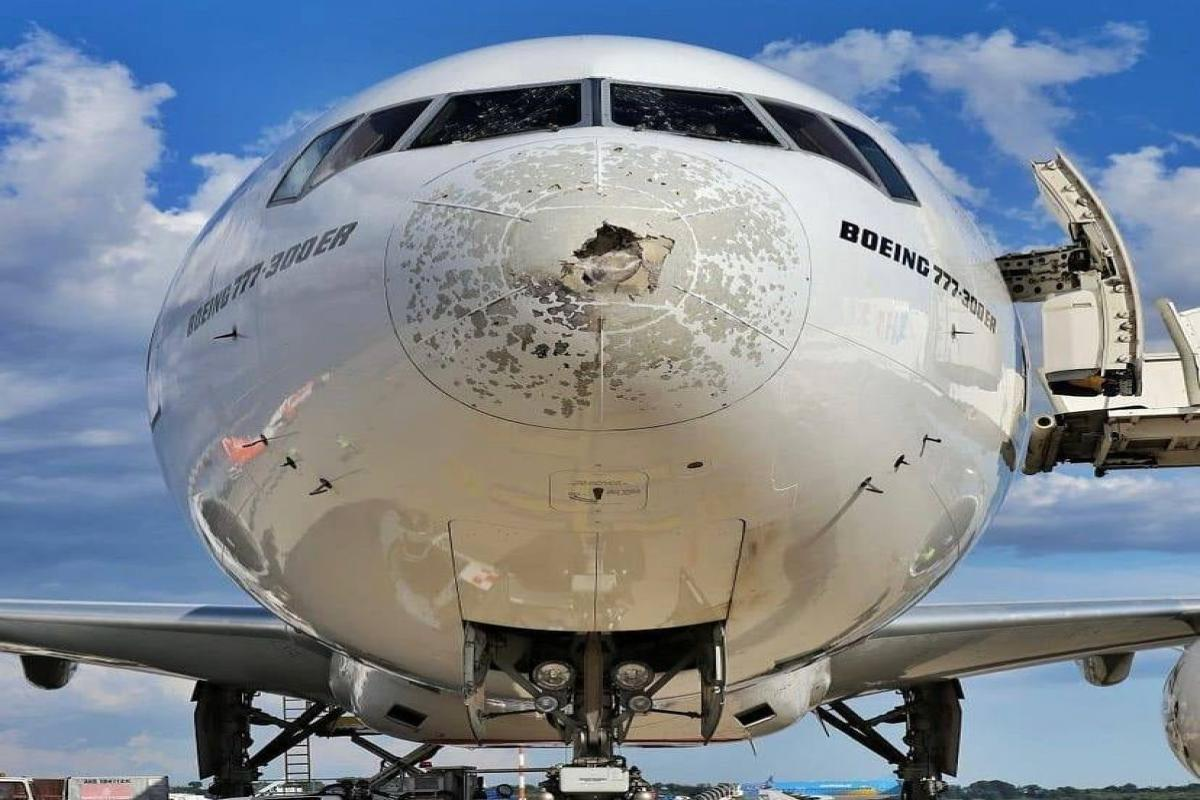Fuselage_damage: (382, 138, 810, 430), (422, 84, 579, 145), (615, 86, 772, 142)
